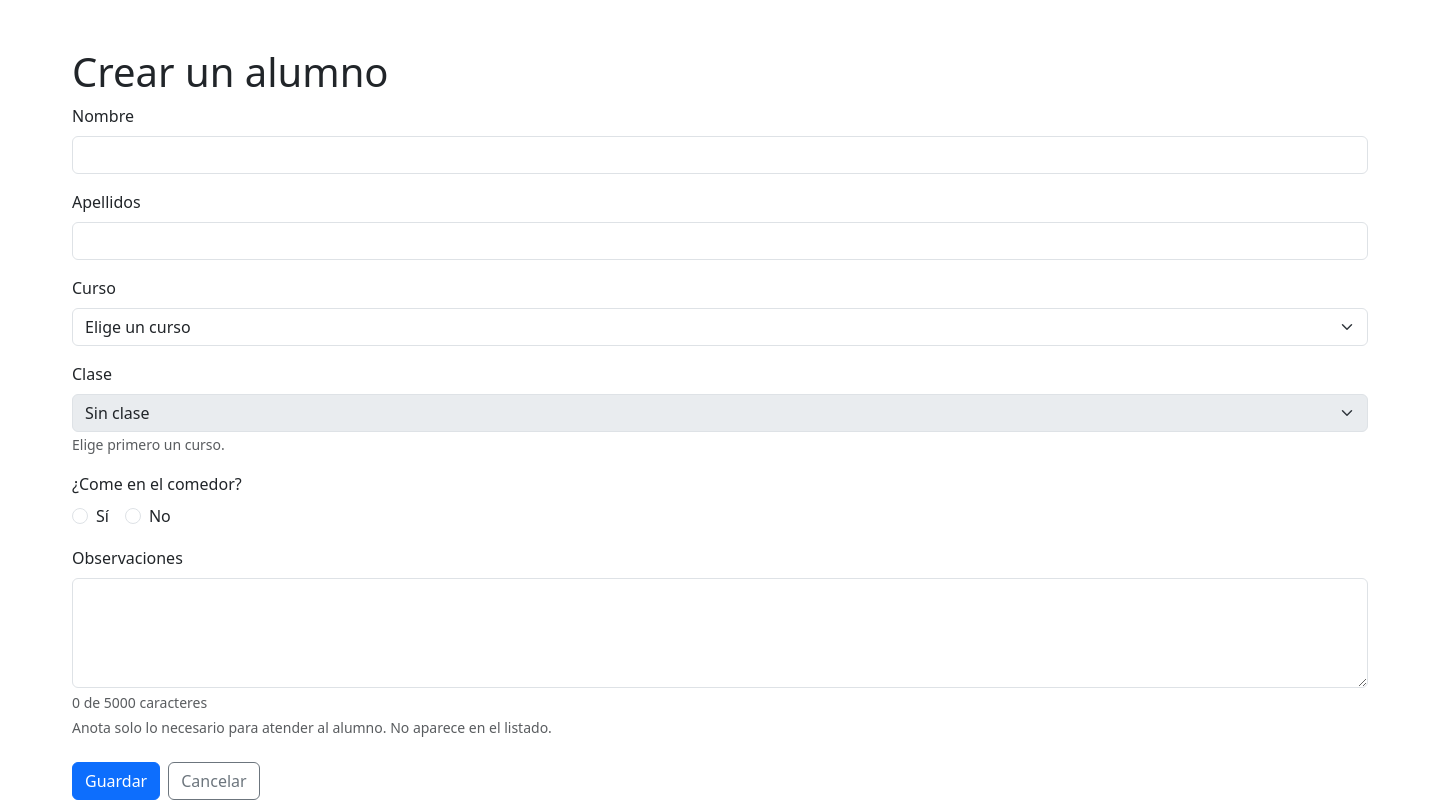
Test: CreateStudentPage › sends nothing when the form is not valid
Step 1. Type "Juan" into the field labelled "Nombre" → (720, 155), box [72,136,1368,174]
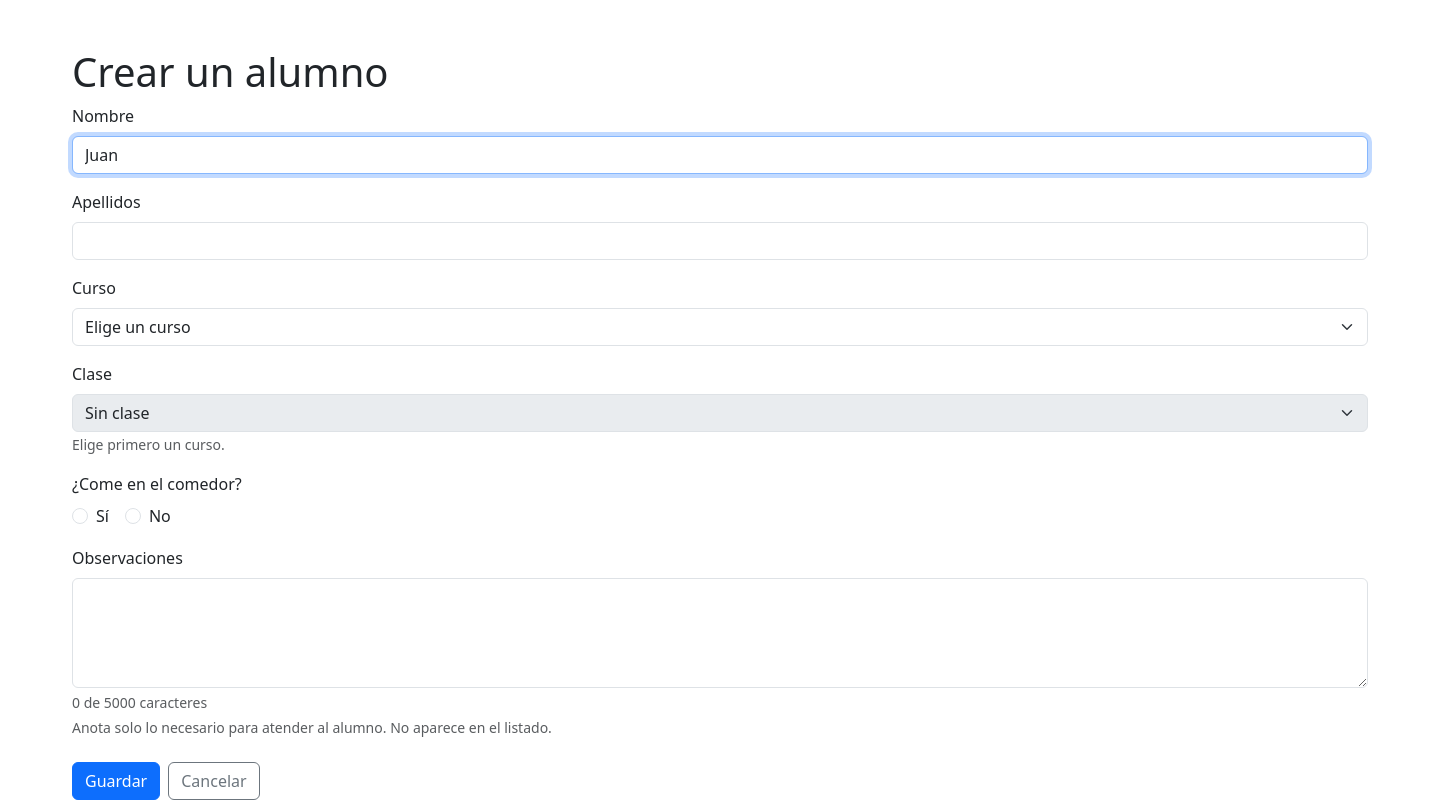
Expected: the dropdown labelled "Curso" is enabled, [72,308,1368,346]
Step 2. Click the button "Guardar" → (116, 781), box [72,762,160,800]
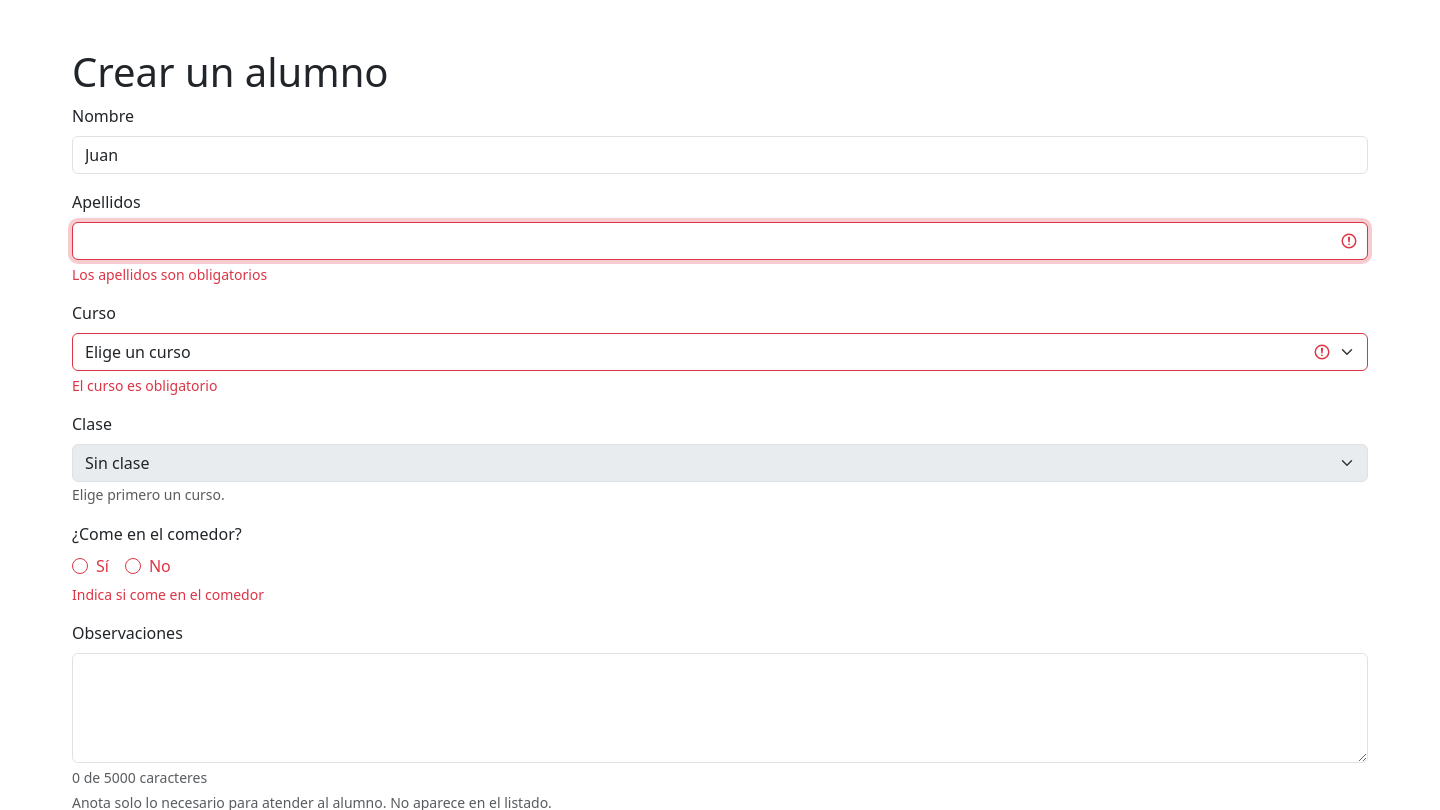
Expected: the text "Los apellidos son obligatorios" is shown, [72,265,267,284]
